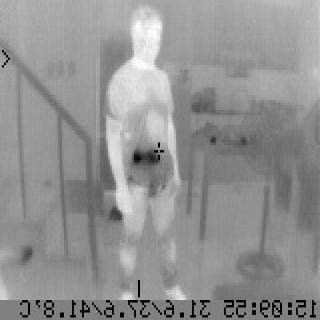Gun: (130, 145, 160, 197)
